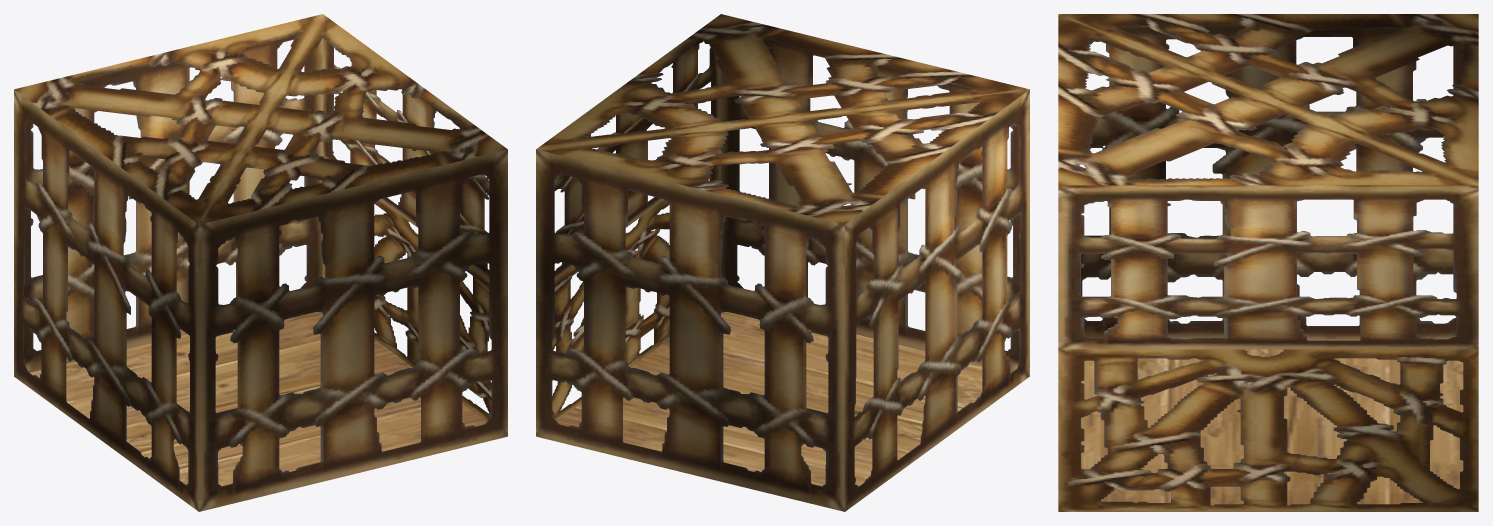
Rendered from animalcage03.obj.
3 renders of one model, left to right at view 1: azimuth 30°, elevation 25°; view 2: azimuth 150°, elevation 25°; view 3: azimuth 270°, elevation 25°, orthographic. The views are drawn at different scales.
Visible parts, largest first — view 1: ANIMALCAGE031, ANIMALCAGE030; view 2: ANIMALCAGE031, ANIMALCAGE030; view 3: ANIMALCAGE031, ANIMALCAGE030.
Part boxes in pixels (x1,y1,x2,y2): ANIMALCAGE031: [14, 14, 507, 511]; ANIMALCAGE030: [30, 312, 486, 486]; ANIMALCAGE031: [536, 14, 1029, 511]; ANIMALCAGE030: [557, 312, 1011, 486]; ANIMALCAGE031: [1058, 14, 1478, 511]; ANIMALCAGE030: [1081, 349, 1463, 505].
Size of the model in its own units: 1.78 by 1.58 by 1.85.
Materials: 2 (2 with a texture image).
